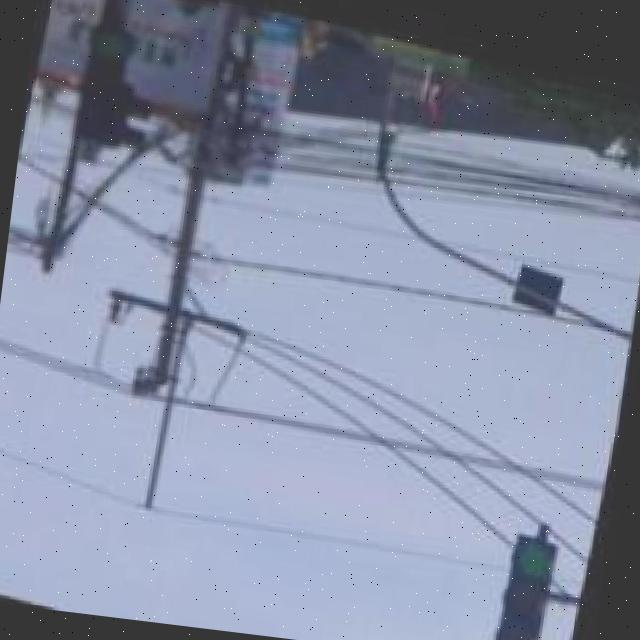green_light: (492, 520, 567, 640), (68, 18, 134, 145)
